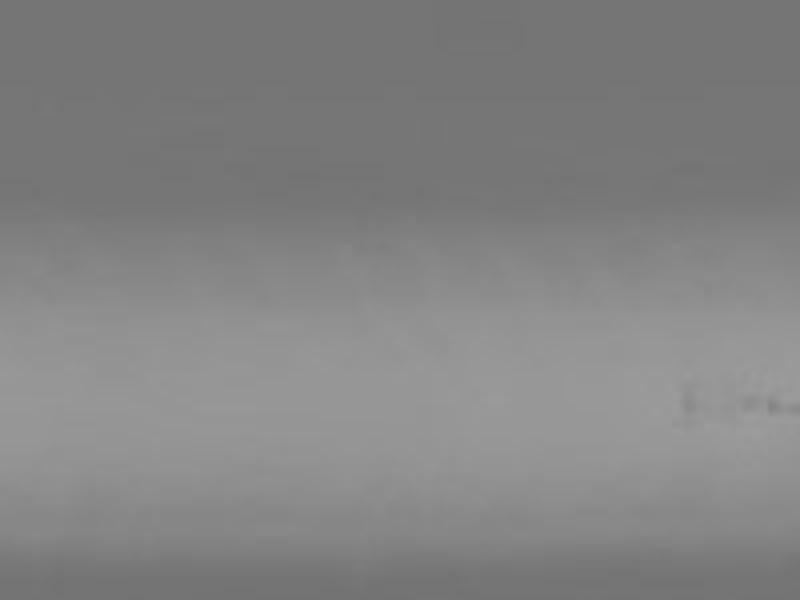defect: (676, 376, 699, 423), (738, 388, 760, 414), (766, 396, 782, 415), (785, 403, 798, 417)
